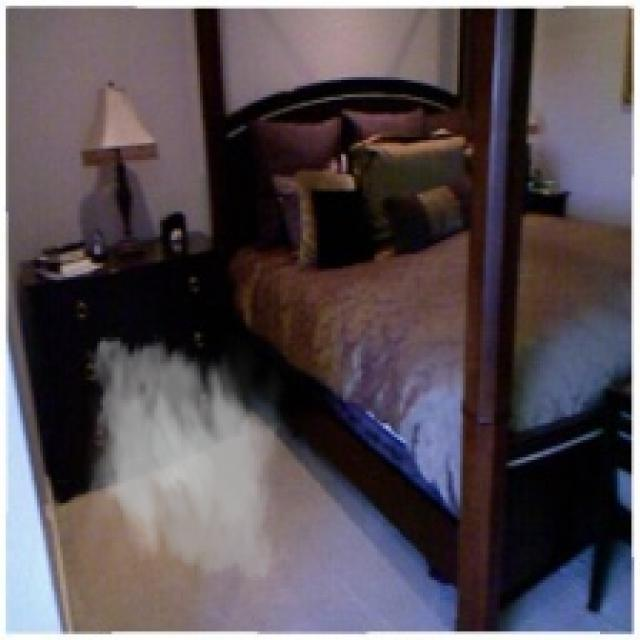Smoke: (77, 326, 294, 592)
